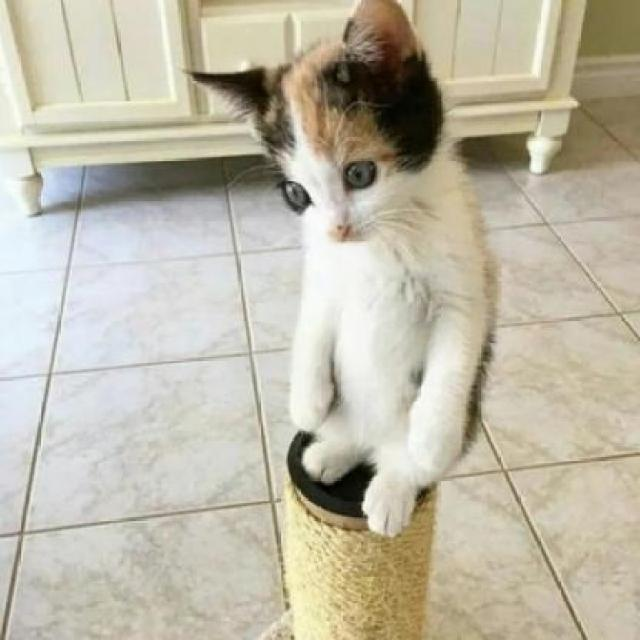cat: (194, 8, 501, 524)
